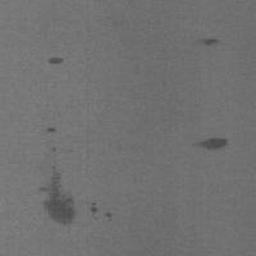Oil spot: (37, 160, 81, 227), (191, 137, 230, 152), (193, 36, 220, 49), (47, 56, 67, 67), (90, 201, 100, 221), (104, 211, 114, 223), (45, 125, 56, 134)
